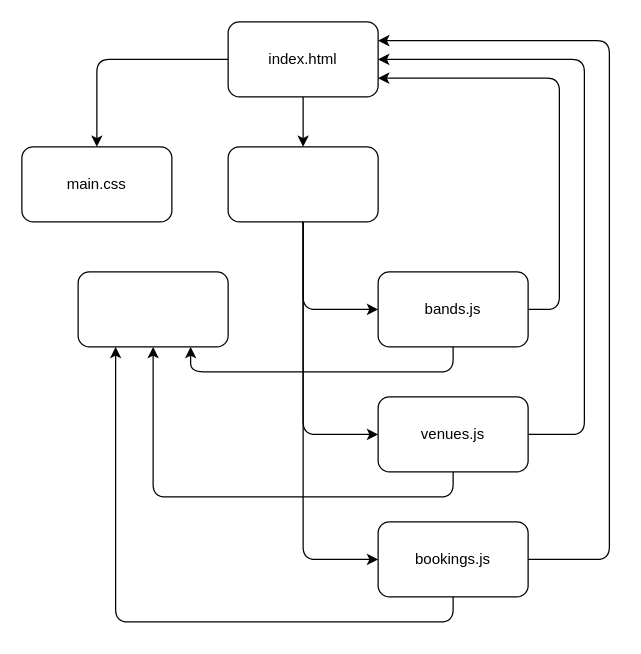
Some shapes in this 641 by 654 pixel diagram are drawn without their labels. Each missing label, with the centre of its shape:
"database.js" goes at point (152, 309).
"main.js" goes at point (302, 184).
